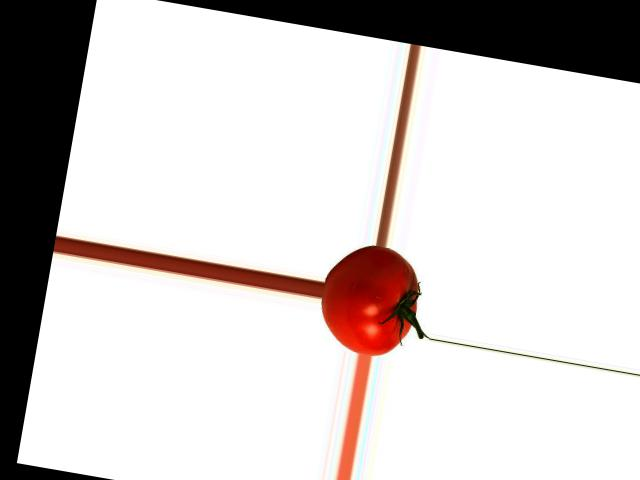tomato: (314, 237, 427, 361)
